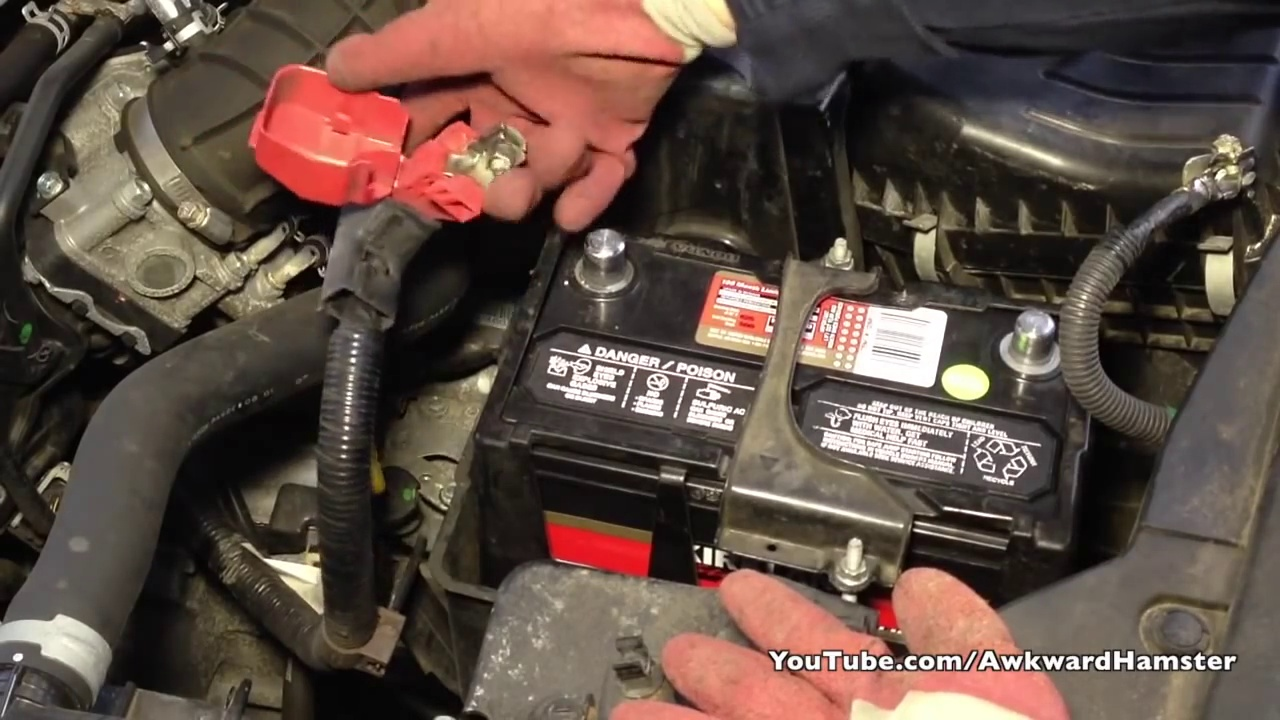battery: (517, 197, 1071, 530)
neg_disconnected: (963, 278, 1108, 402)
pos_disconnected: (273, 56, 648, 311)
